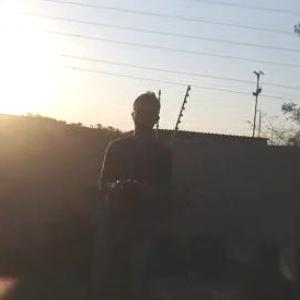follow: (96, 86, 178, 299)
